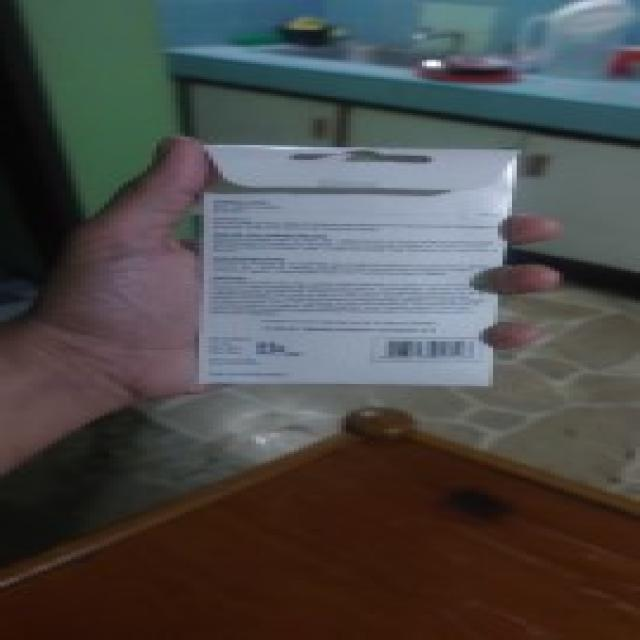Cacat: (197, 144, 512, 385)
